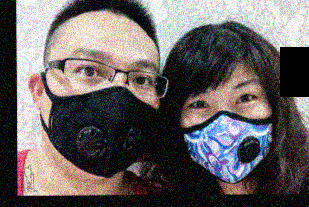with_mask: (45, 46, 162, 180), (178, 76, 275, 185)
